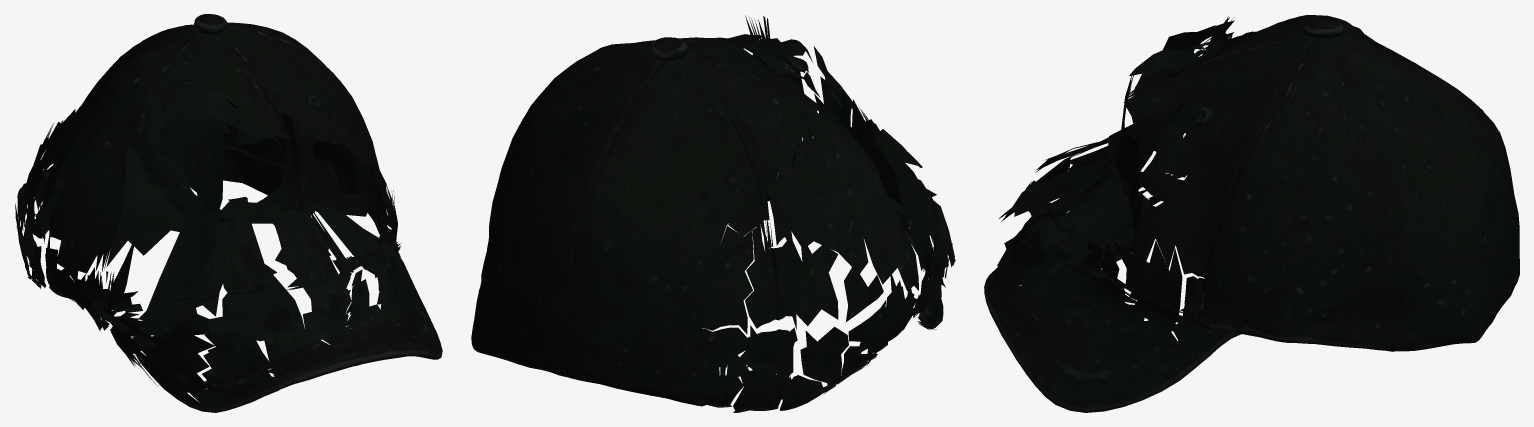
Rendered from dante.mobile.glb.
3 renders of one model, left to right at view 1: azimuth 30°, elevation 25°; view 2: azimuth 150°, elevation 25°; view 3: azimuth 270°, elevation 25°, orthographic. The views are drawn at different scales.
Visible parts, largest first — view 1: geometry_0; view 2: geometry_0; view 3: geometry_0.
Boxes of the visible parts, left/top/right/bottom form: geometry_0: left=15, top=14, right=442, bottom=412; geometry_0: left=471, top=15, right=955, bottom=412; geometry_0: left=984, top=15, right=1519, bottom=412.
Bounding box in the file's own units: 0.2072 × 0.174 × 0.2617.
1 material, 1 textured.
